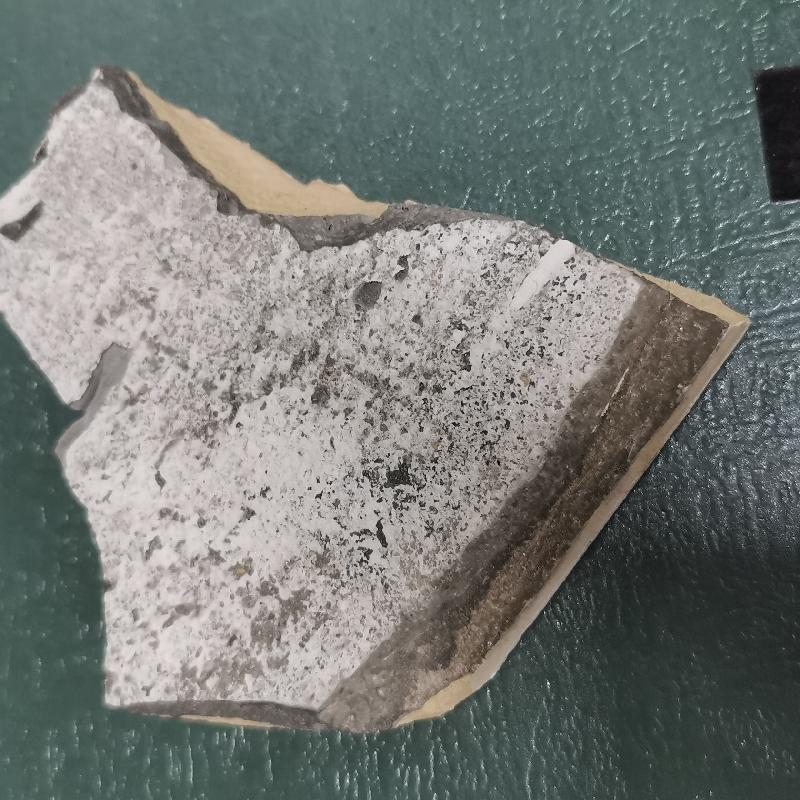tile: (5, 55, 752, 757)
